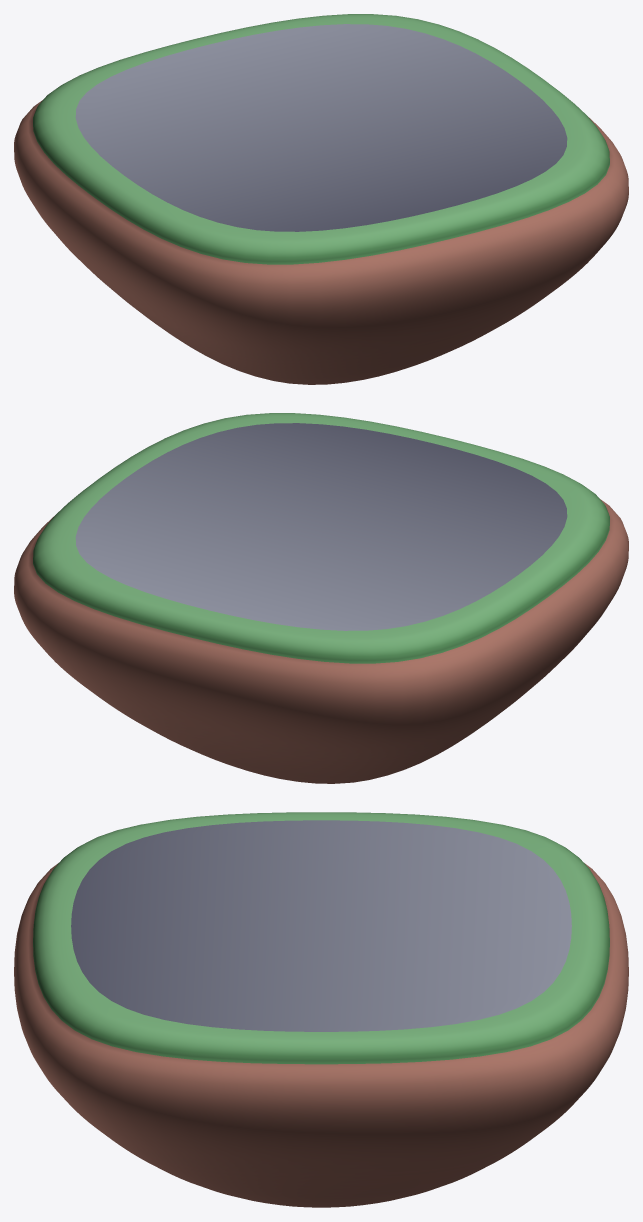
Rendered from SM_Floating_Island.fbx.
The picture shows the model from 3 angles, top to bottom: view 1: azimuth 30°, elevation 25°; view 2: azimuth 150°, elevation 25°; view 3: azimuth 270°, elevation 25°; orthographic projection. The views are drawn at different scales.
Parts seen in each view (by area): view 1: Floating_Island; view 2: Floating_Island; view 3: Floating_Island.
Boxes of the visible parts, box(x1,y1,x2,y2) form: Floating_Island: box(14, 14, 628, 384); Floating_Island: box(14, 413, 628, 783); Floating_Island: box(14, 812, 628, 1207).
Size of the model in its own units: 10767 by 5012 by 10767.
